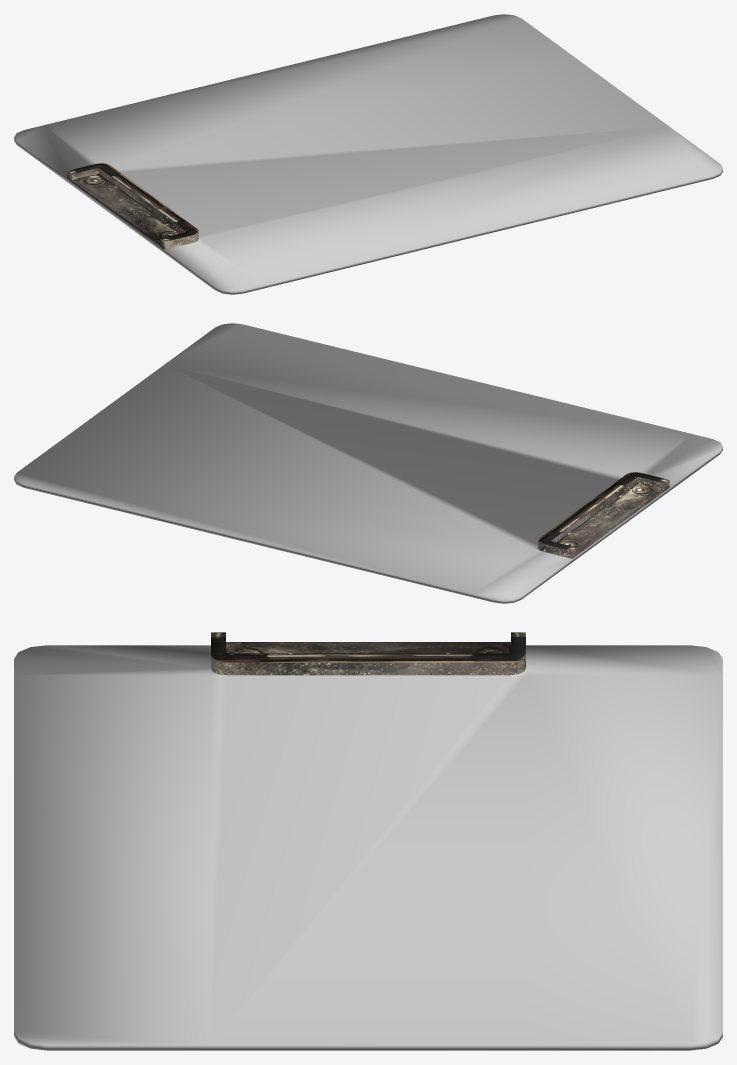
The model's file is clipboard.fbx.
The picture shows the model from 3 angles, top to bottom: view 1: azimuth 30°, elevation 25°; view 2: azimuth 150°, elevation 25°; view 3: azimuth 270°, elevation 25°; orthographic projection. The views are drawn at different scales.
Parts seen in each view (by area): view 1: clipboard; view 2: clipboard; view 3: clipboard.
Boxes of the visible parts, x1,y1,x2,y2 form: clipboard: (14,14,722,294); clipboard: (14,323,722,603); clipboard: (14,632,722,1050).
Bounding box in the file's own units: 30 × 0.6485 × 22.5.
